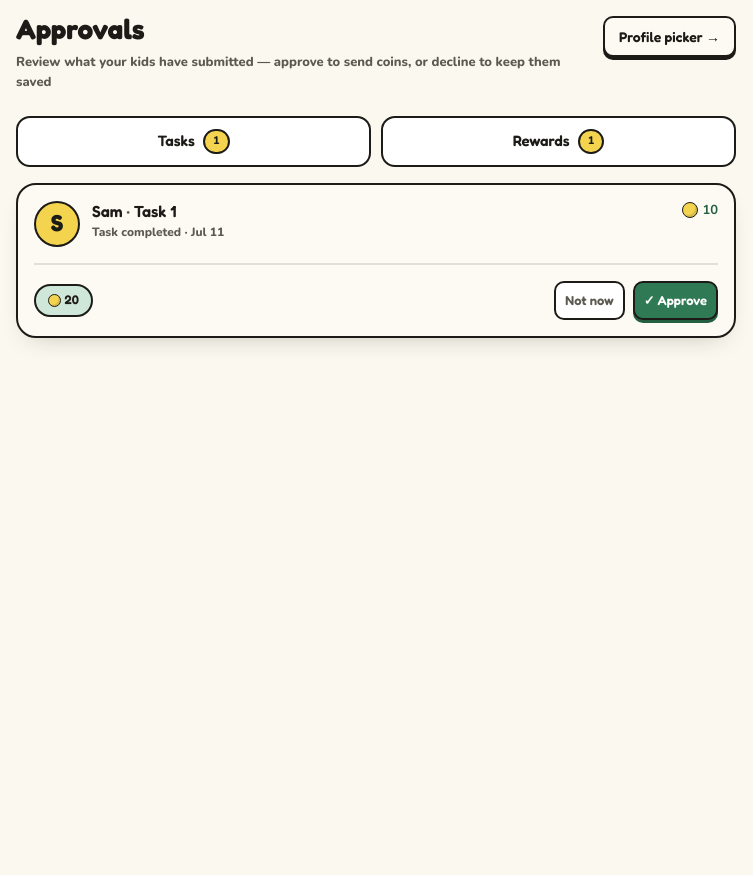
Test: ParentApprovalsPage › restores the row and shows an error toast when approve fails
Expected: the tab "Tasks 1" is shown, [16,116,371,166]
Click the button "✓ Approve" at (675, 300), box [633,280,718,320]
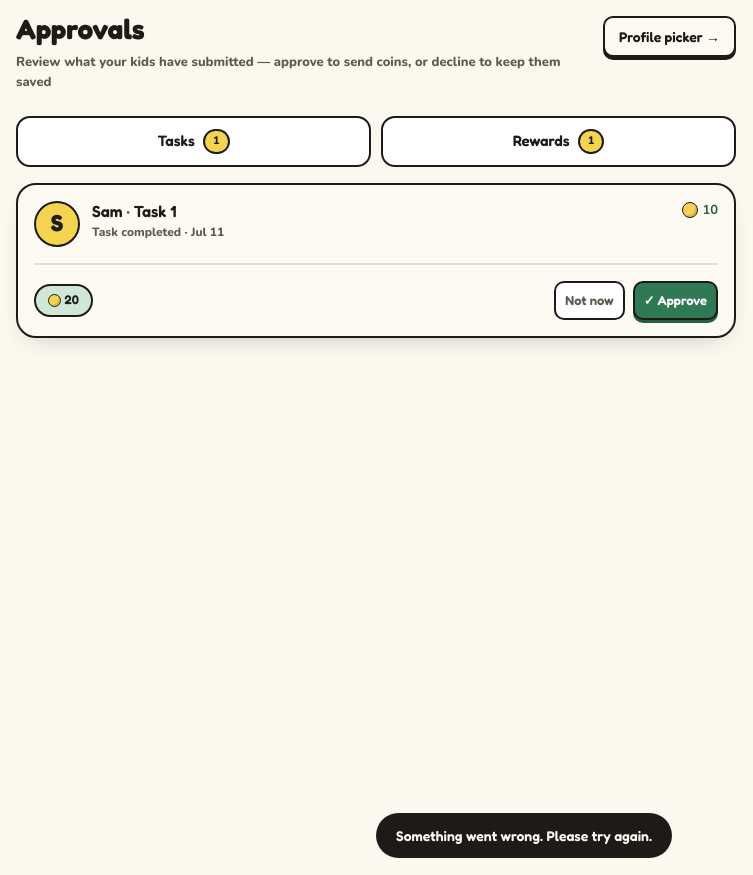
Expected: the text "Task 1" is shown, [134,200,176,220]
Now the text "Something went wrong. Please try again." is shown, box [376,813,672,858]
